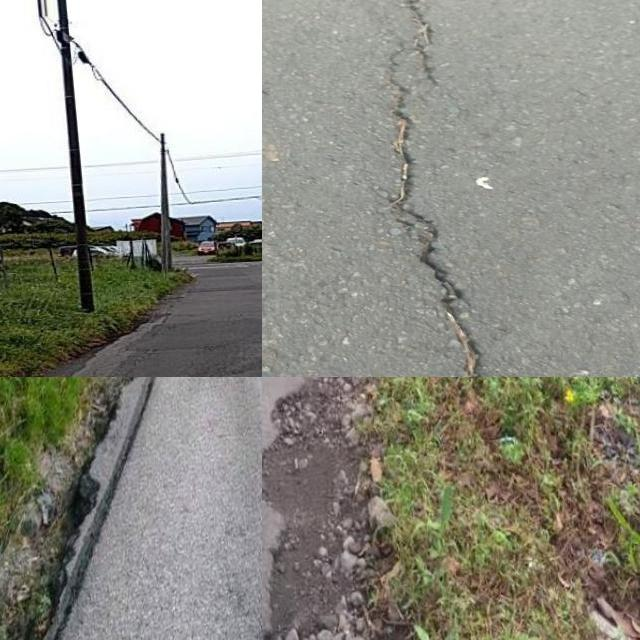Memanjang: (342, 0, 552, 377)
Pinggir: (0, 377, 164, 640), (262, 377, 397, 640)
